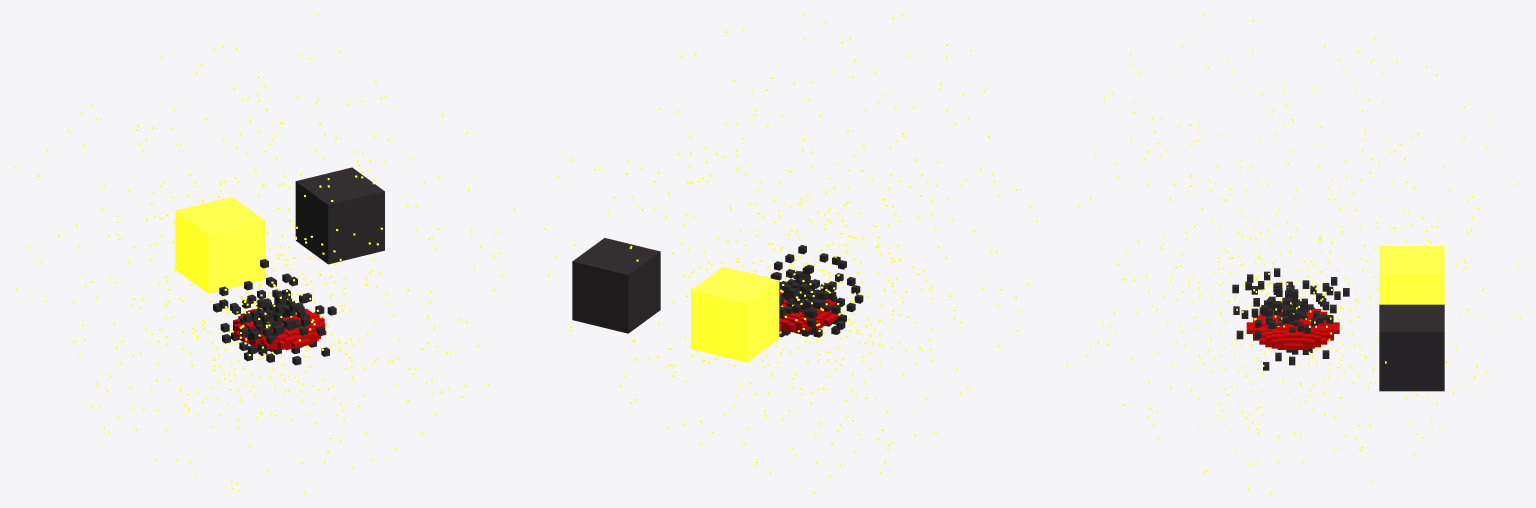
Rendered from Vox.fbx.
3 views of the same model, side by side, from view 1: azimuth 30°, elevation 25°; view 2: azimuth 150°, elevation 25°; view 3: azimuth 270°, elevation 25° (orthographic).
Parts seen in each view (by area): view 1: smoke, Flame, Sphere; view 2: smoke, Flame, Sphere; view 3: smoke, Flame, Sphere.
Boxes of the visible parts, box(x1,y1,x2,y2) form: smoke: box(295, 167, 384, 264); Flame: box(175, 197, 264, 293); Sphere: box(233, 308, 326, 350); smoke: box(572, 238, 660, 333); Flame: box(691, 267, 779, 362); Sphere: box(779, 291, 838, 332); smoke: box(1379, 304, 1444, 391); Flame: box(1379, 246, 1444, 304); Sphere: box(1246, 307, 1339, 349).
Size of the model in its own units: 1088 by 1082 by 1023.
